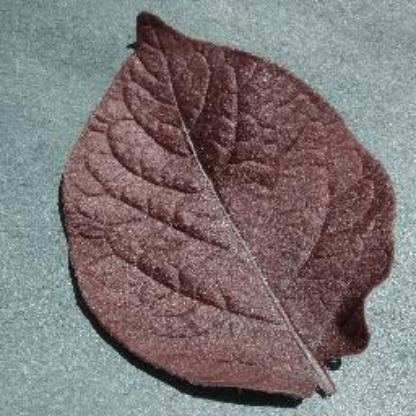Healthy-plant: (57, 8, 399, 406)
